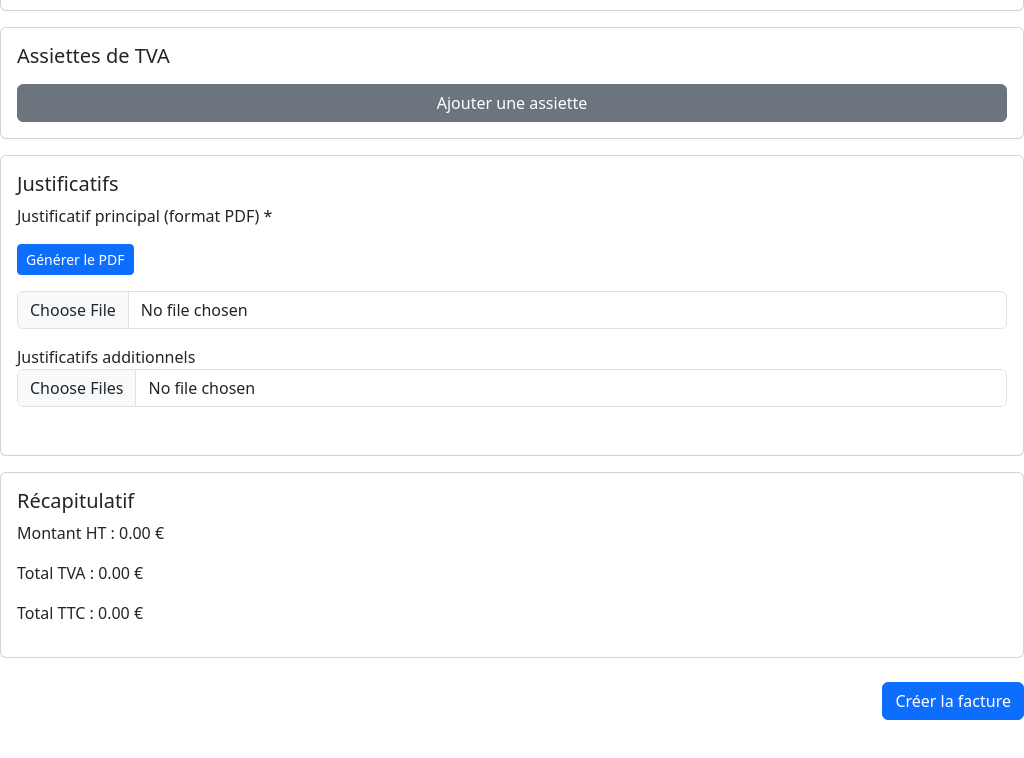
InvoiceForm › Validation à la soumission › affiche une erreur si aucun client n'est renseigné
This screenshot has width=1024, height=758.
(page scrolled)
Click the button "Créer la facture" at (953,701), box [882,682,1023,720]
(page scrolled)
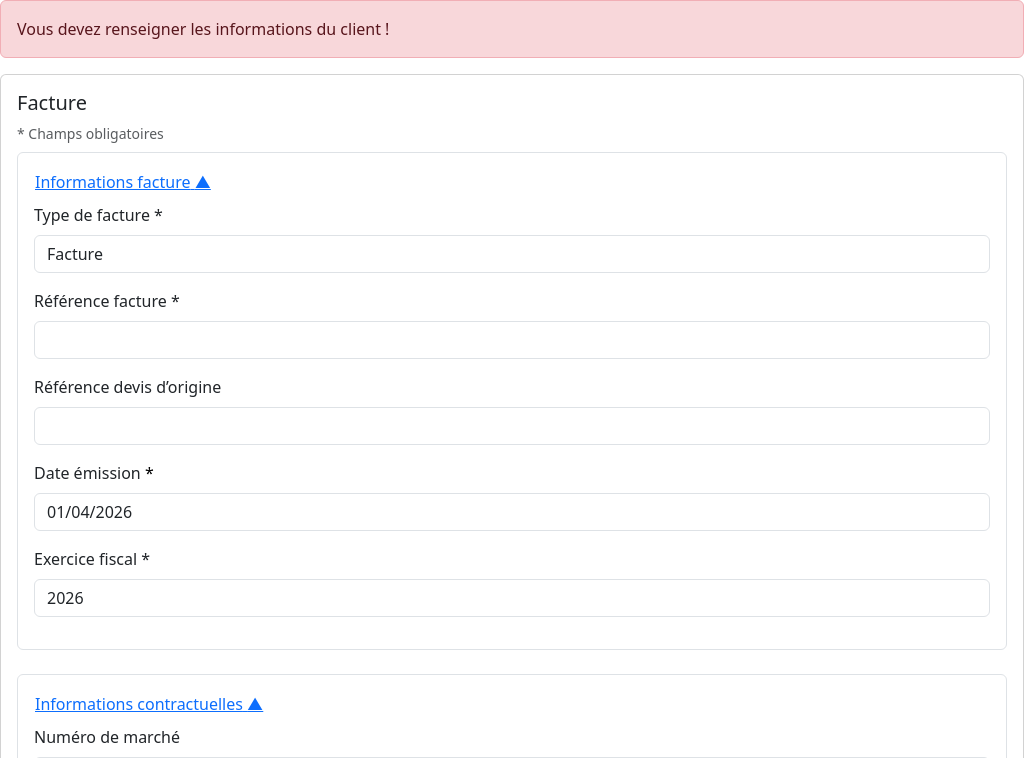
Expected: the text "Vous devez renseigner les informations du client !" is shown, [0,0,1023,58]
